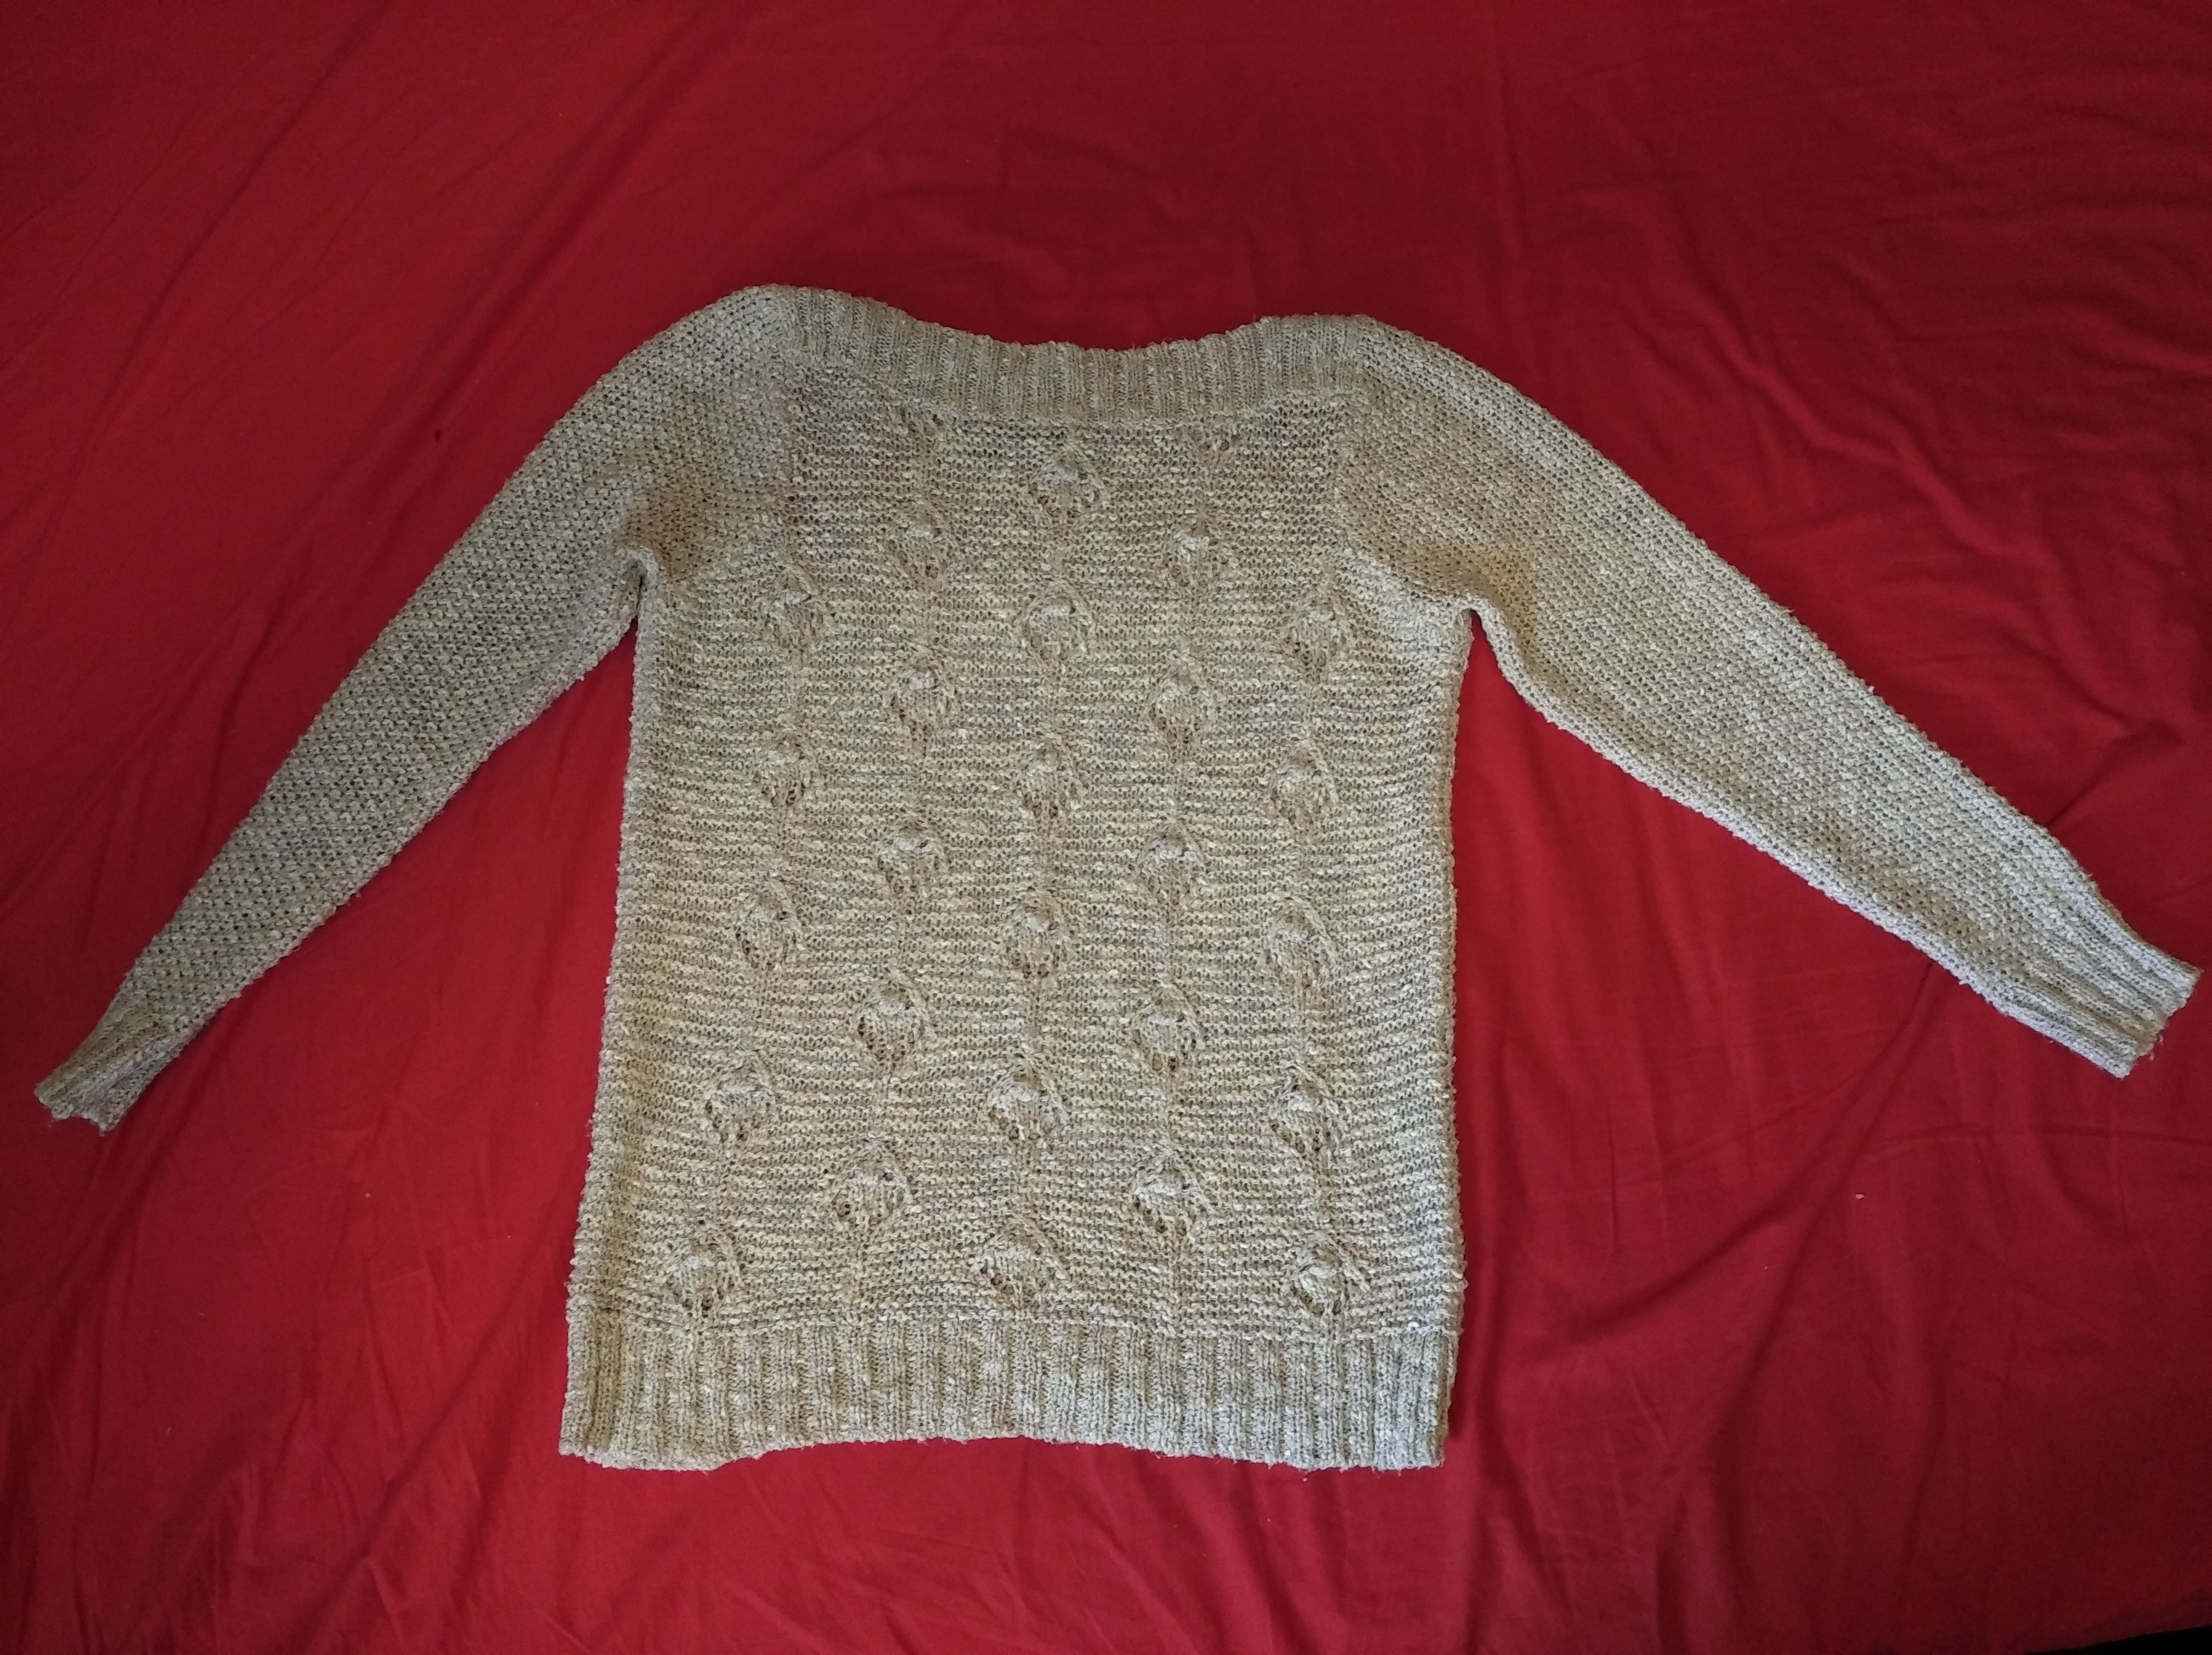clothes: (49, 276, 2177, 1490)
